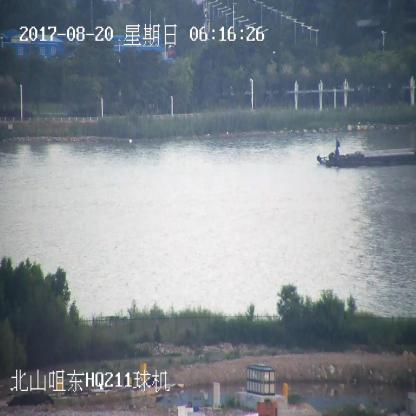Bulk Carrier: (317, 142, 416, 169)
